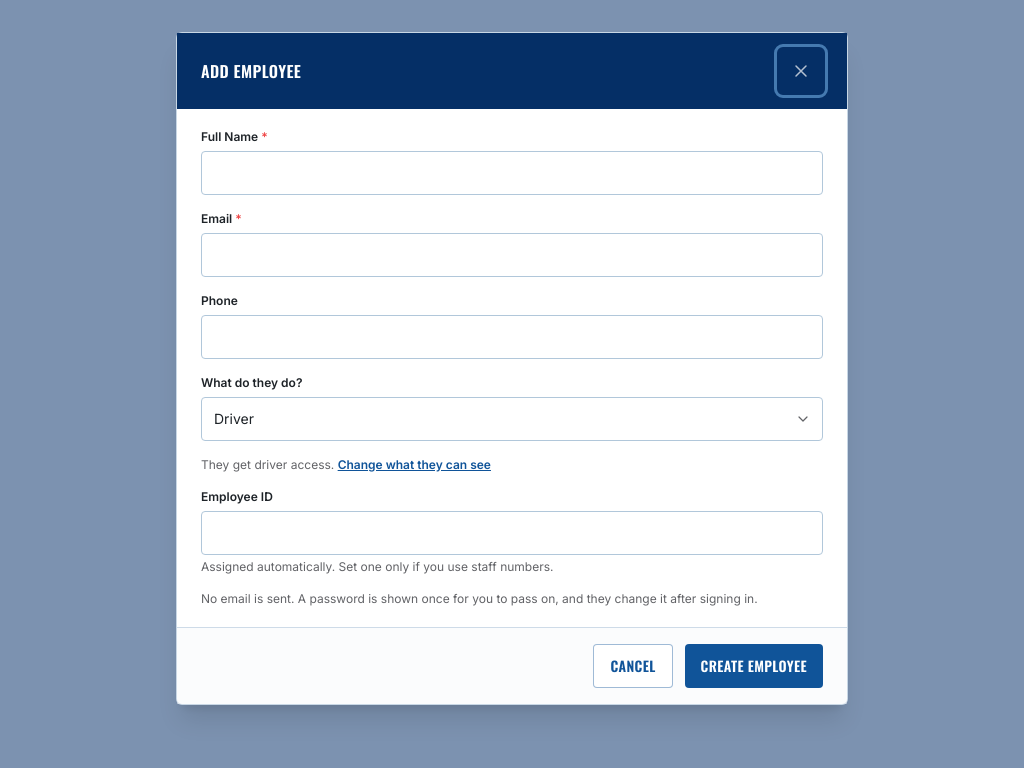
Test: EmployeeModal onboarding delivery › requests a temporary password when email sending is off
Type "Austin Doe" into the field labelled "Full Name *" at x=512, y=173, box 201,151 -> 823,195
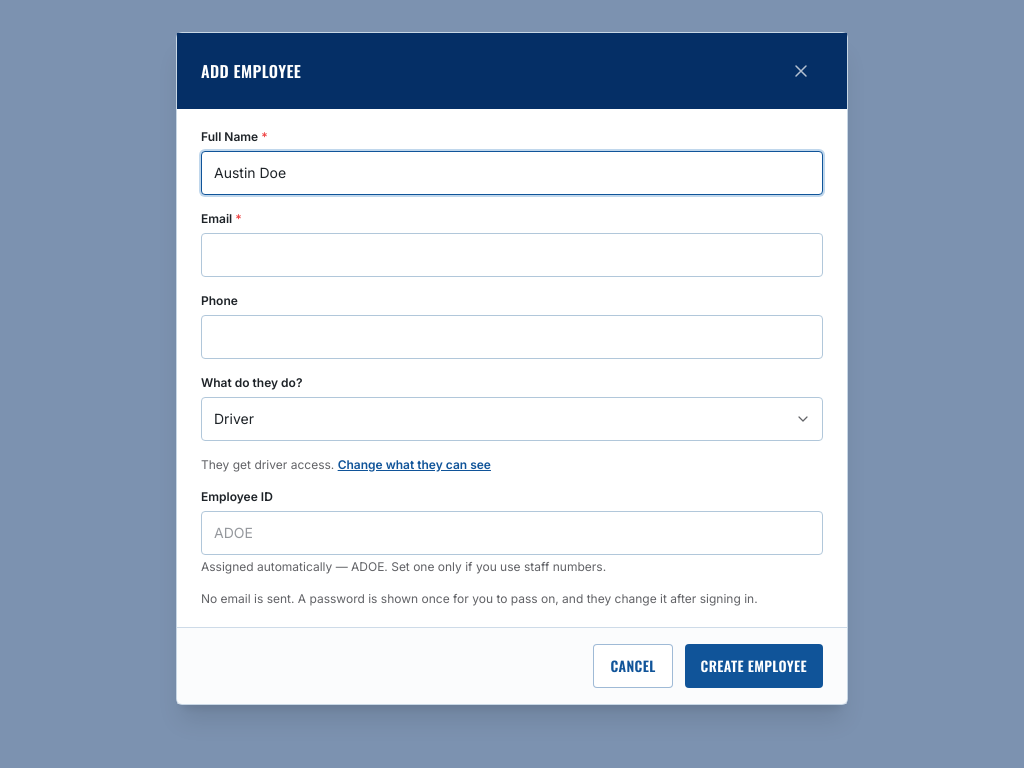
Type "austin@example.com" into the field labelled "Email *" at x=512, y=255, box 201,233 -> 823,277
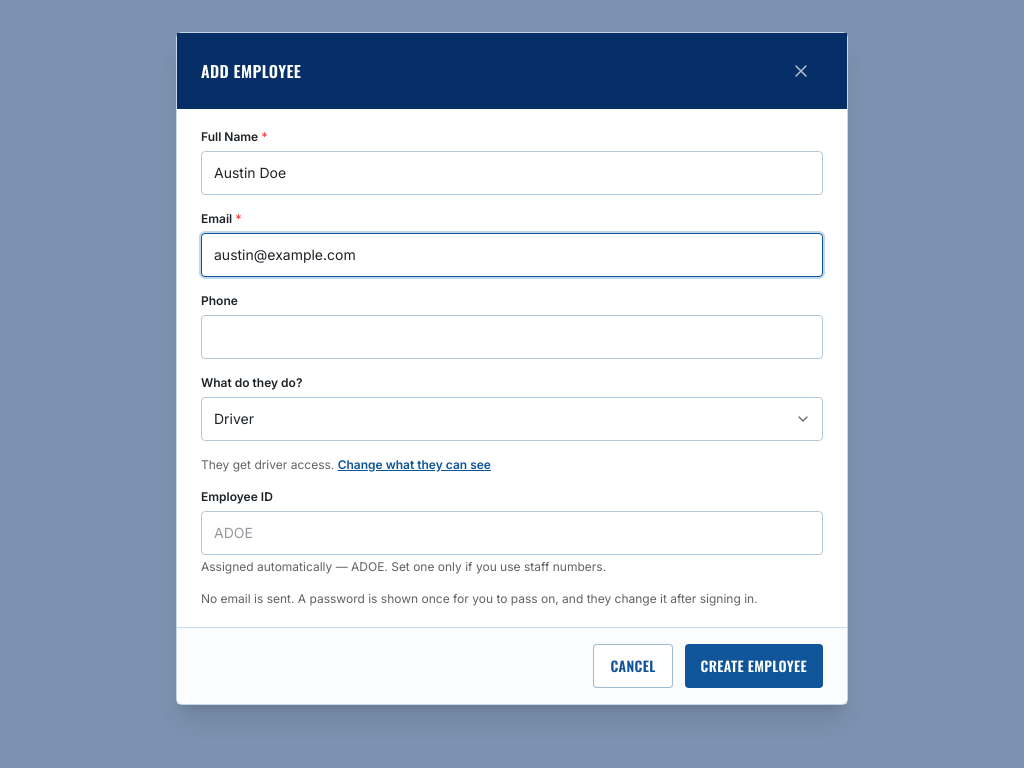
Click the button "Create Employee" at x=754, y=666, box 685,644 -> 823,688
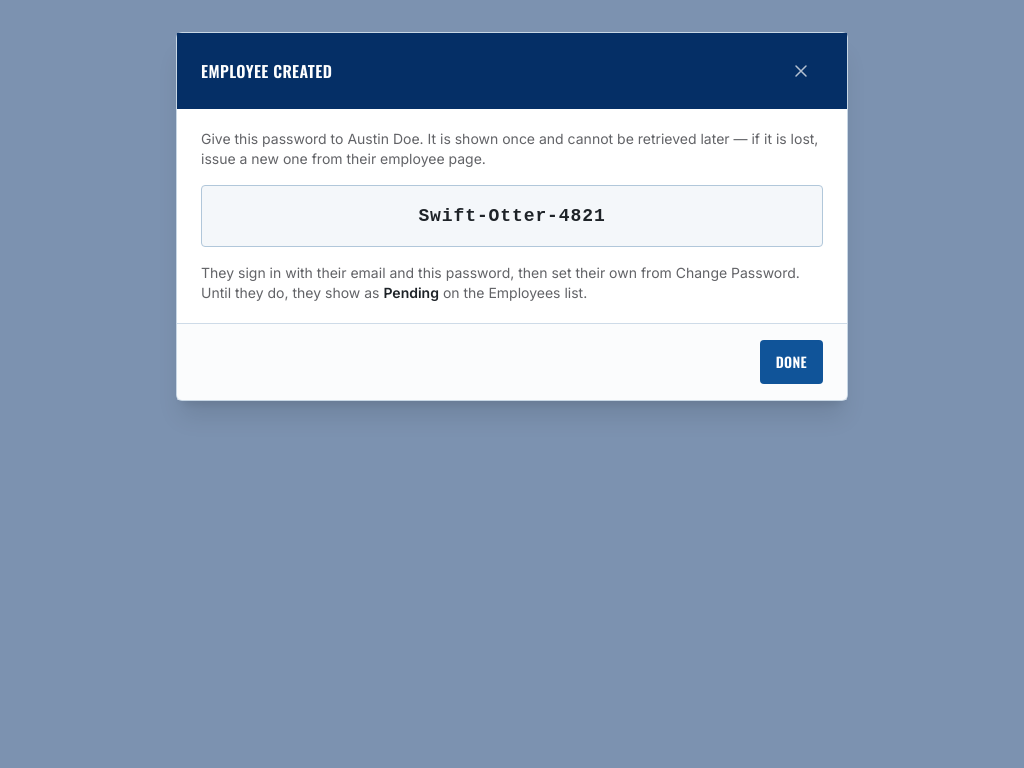
Expected: the text "Swift-Otter-4821" is shown, 418,206 -> 606,226
